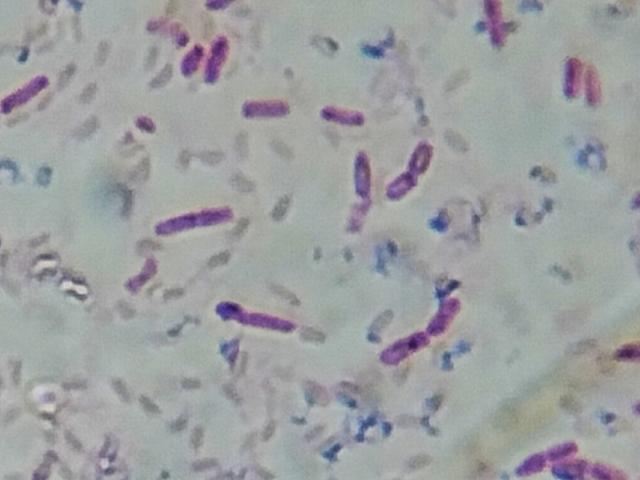E. coli: (384, 140, 443, 202), (149, 198, 239, 236), (214, 300, 301, 339), (0, 61, 50, 113), (512, 438, 577, 477), (376, 331, 431, 371), (419, 289, 463, 335), (318, 97, 372, 132), (566, 448, 623, 480), (118, 257, 161, 297), (237, 94, 294, 121), (206, 30, 232, 88), (485, 0, 511, 53), (346, 150, 376, 195), (180, 40, 207, 74), (584, 60, 600, 115), (562, 52, 580, 97)
